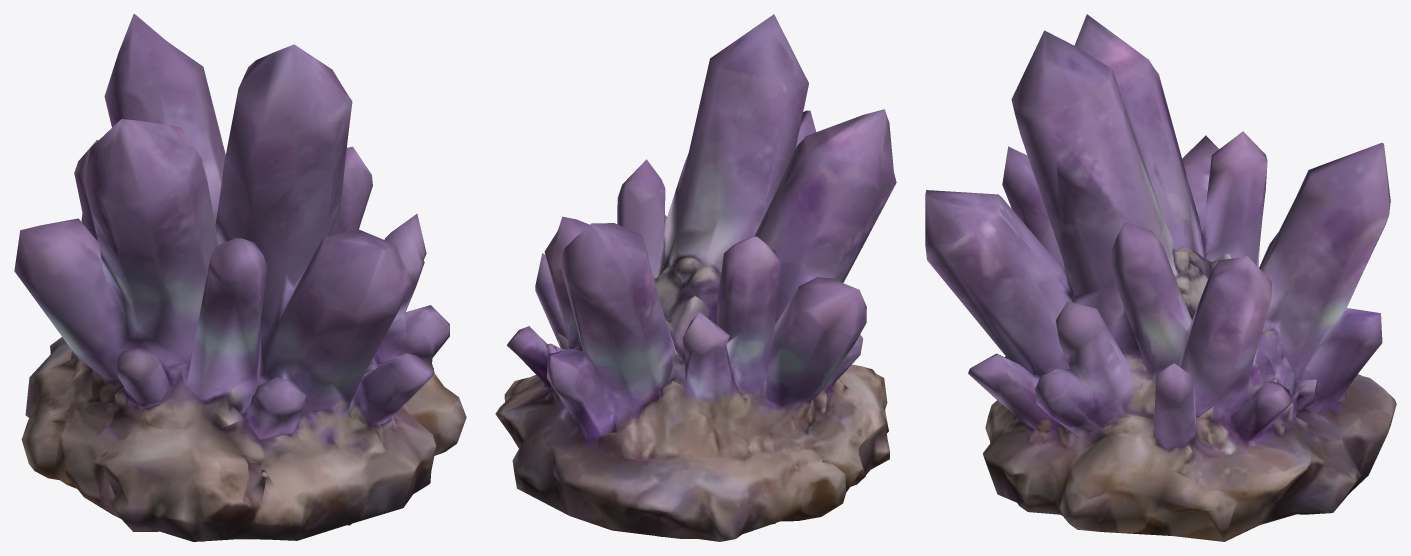
The model's file is rare_ore.glb.
The picture shows the model from 3 angles, left to right: view 1: azimuth 30°, elevation 25°; view 2: azimuth 150°, elevation 25°; view 3: azimuth 270°, elevation 25°; orthographic projection. The views are drawn at different scales.
Visible parts, largest first — view 1: tripo_node_f5b24730-bc21-4763-8407-7bc99849ff45; view 2: tripo_node_f5b24730-bc21-4763-8407-7bc99849ff45; view 3: tripo_node_f5b24730-bc21-4763-8407-7bc99849ff45.
Part boxes in pixels (<box>): tripo_node_f5b24730-bc21-4763-8407-7bc99849ff45: <box>14,14,466,541</box>; tripo_node_f5b24730-bc21-4763-8407-7bc99849ff45: <box>495,14,896,541</box>; tripo_node_f5b24730-bc21-4763-8407-7bc99849ff45: <box>925,14,1396,541</box>.
Bounding box in the file's own units: 0.7637 × 0.9366 × 0.843.
Materials: 1 (1 with a texture image).
